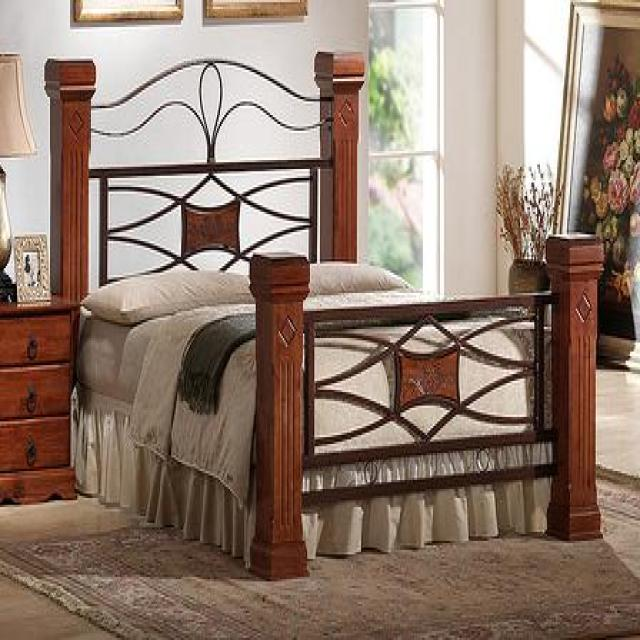bed: (44, 44, 604, 582)
